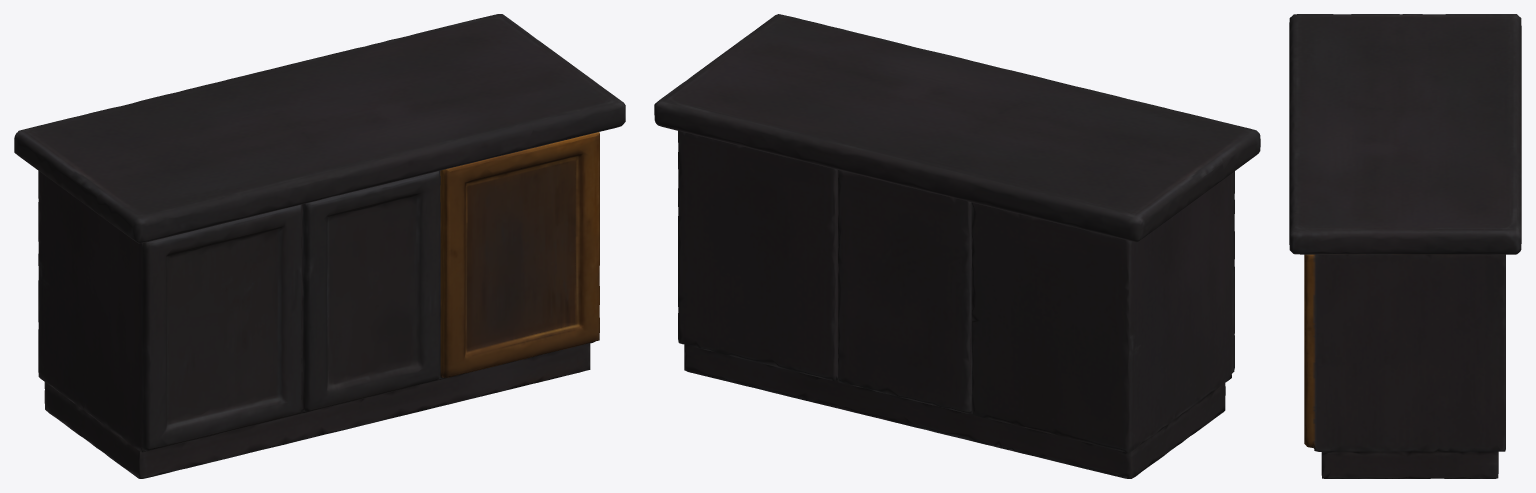
Rendered from studentcafe_BaristaCounter.glb.
3 renders of one model, left to right at view 1: azimuth 30°, elevation 25°; view 2: azimuth 150°, elevation 25°; view 3: azimuth 270°, elevation 25°, orthographic. The views are drawn at different scales.
Visible parts, largest first — view 1: world; view 2: world; view 3: world.
Part boxes in pixels (x1,y1,x2,y2): world: [14, 14, 625, 478]; world: [654, 14, 1260, 478]; world: [1289, 14, 1521, 478].
Bounding box in the file's own units: 1 × 0.5384 × 0.4439.
1 material, 1 textured.
